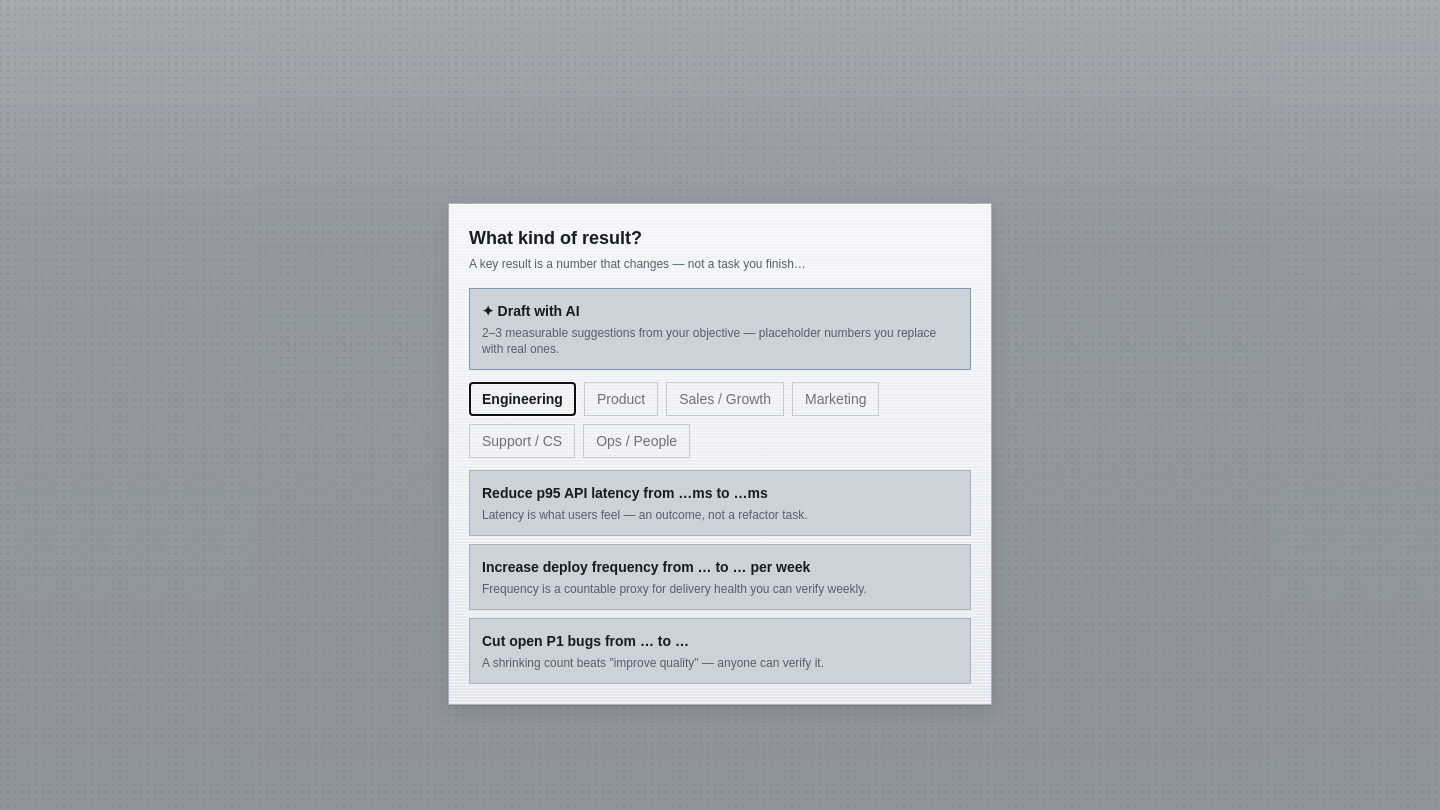
KrWizard › feedback critiques the draft and the rewrite applies
Click the text "Reduce p95 API latency from …ms to …ms": (625, 492) left=482, top=484, right=768, bottom=500
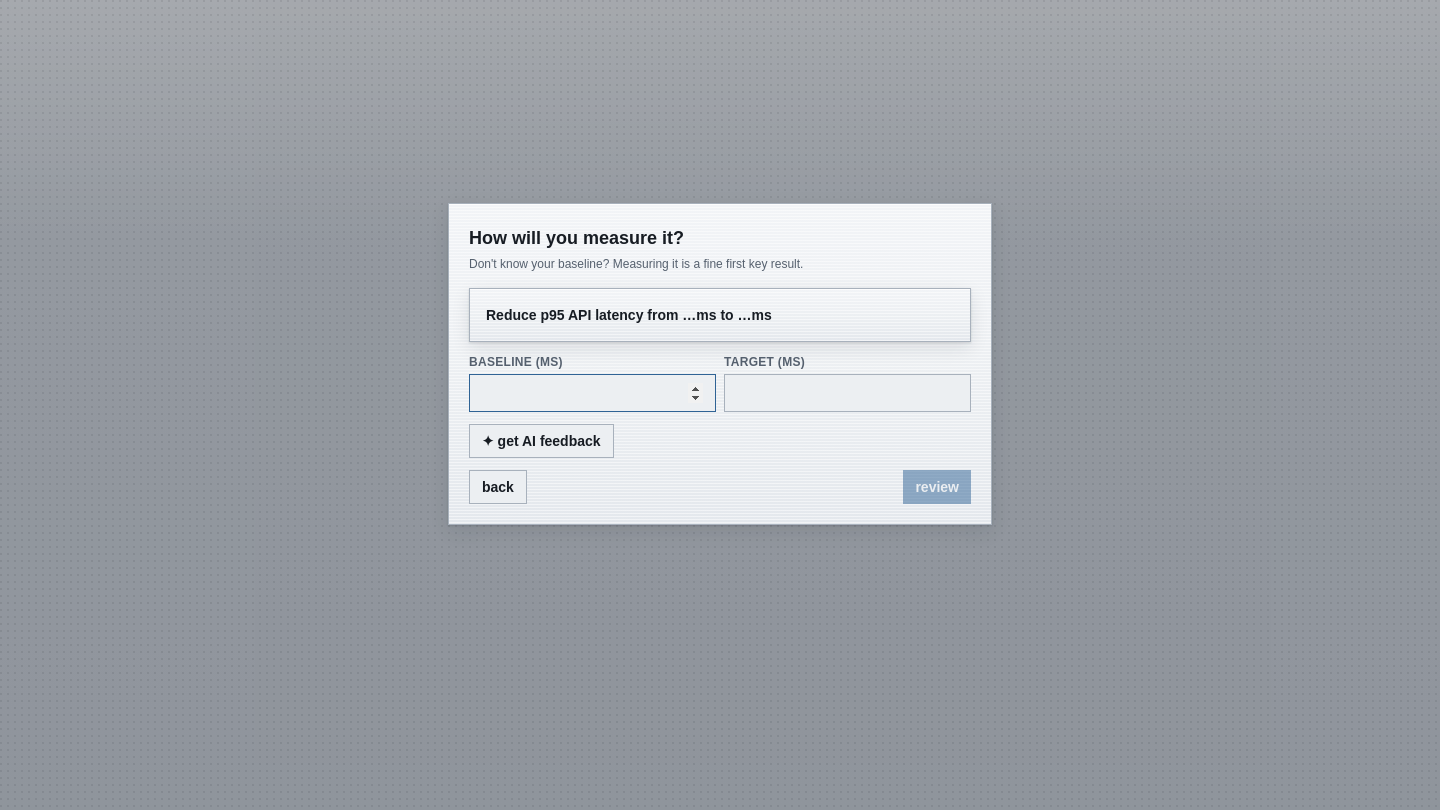
In the number field labelled "Baseline (ms)": (592, 392) left=469, top=374, right=716, bottom=412, type "500"
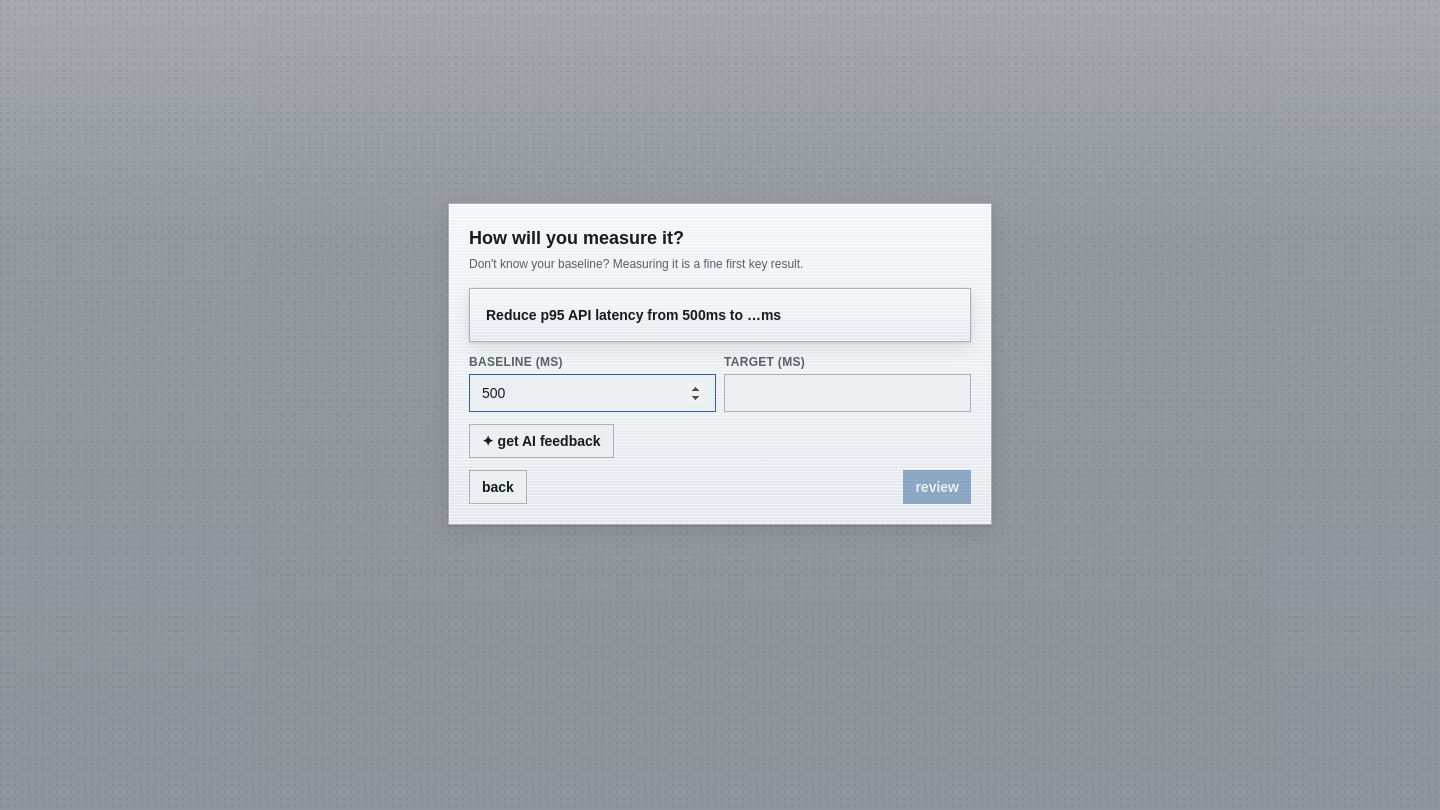
In the number field labelled "Target (ms)": (848, 392) left=724, top=374, right=971, bottom=412, type "200"
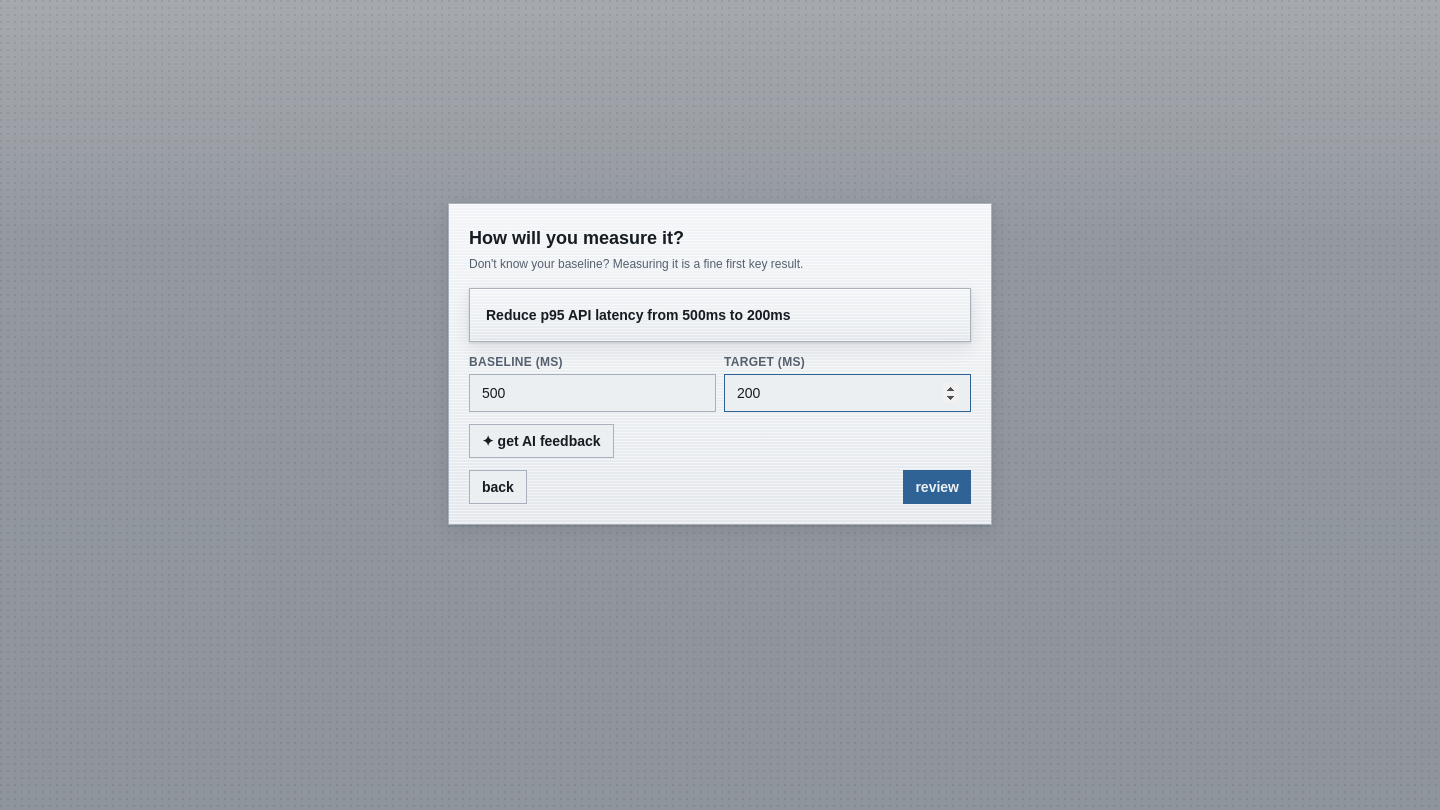
Click the button with test id "ai-feedback": (541, 440) left=469, top=424, right=614, bottom=458
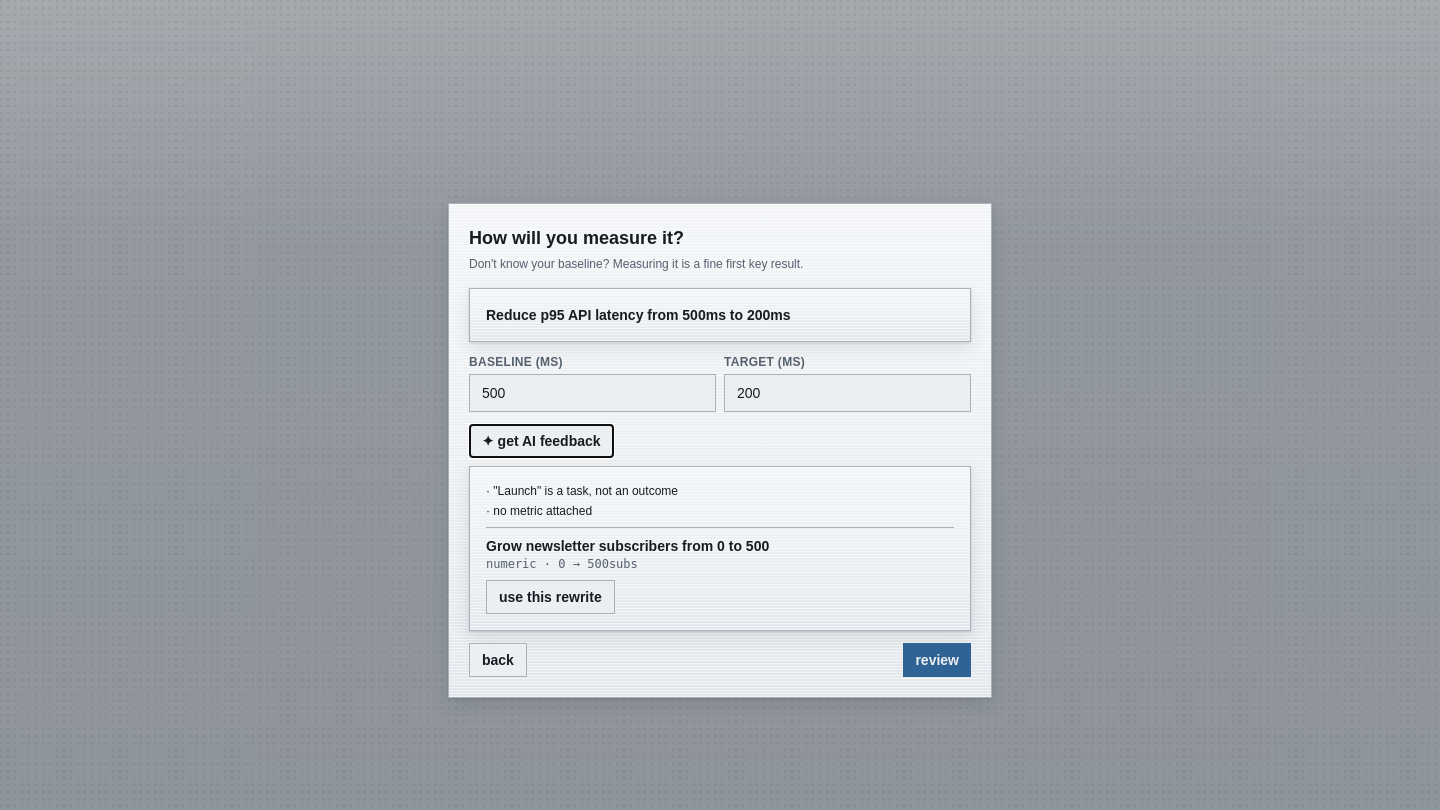
Expected: the list item "· \"Launch\" is a task, not an outcome" is shown, left=486, top=484, right=678, bottom=498
Click the button "use this rewrite": (550, 596) left=486, top=580, right=615, bottom=614
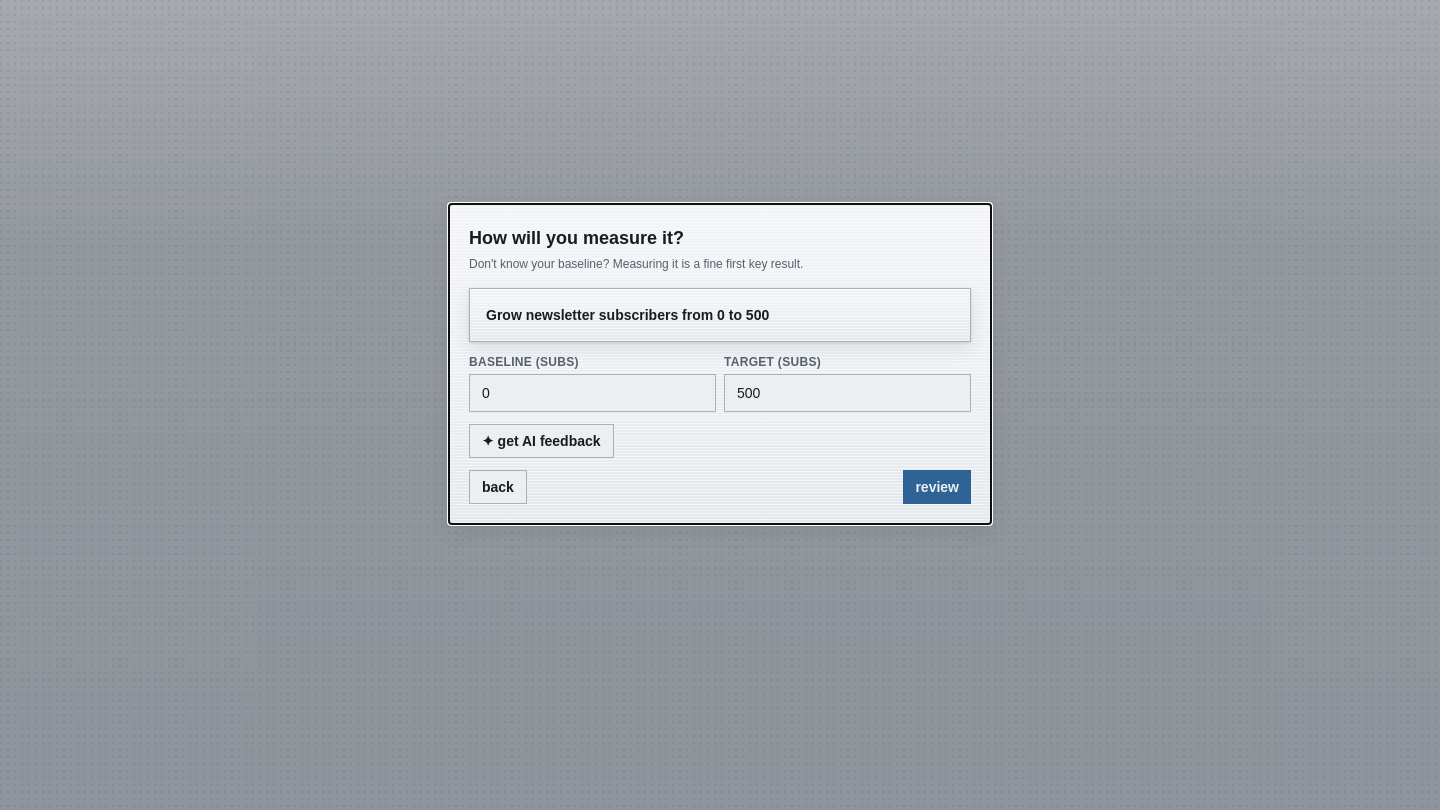
Expected: the number field labelled "Baseline (subs)" holds "0", left=469, top=374, right=716, bottom=412
Expected: the number field labelled "Target (subs)" holds "500", left=724, top=374, right=971, bottom=412
Expected: the text "Grow newsletter subscribers from 0 to 500" is shown, left=486, top=306, right=769, bottom=322
